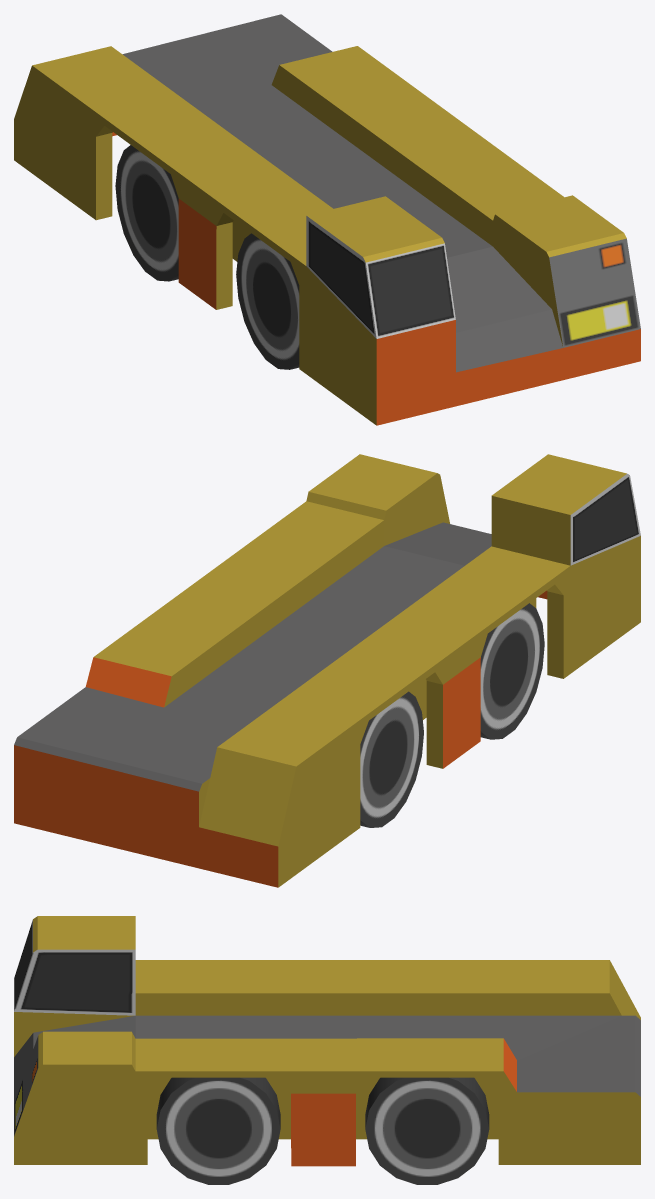
Rendered from airp truck.FBX.
3 views of the same model, one above another, from view 1: azimuth 30°, elevation 25°; view 2: azimuth 150°, elevation 25°; view 3: azimuth 270°, elevation 25° (orthographic). The views are drawn at different scales.
Parts seen in each view (by area): view 1: truck, wheel_07, wheel_08; view 2: truck, wheel_07, wheel_08; view 3: truck, wheel_10, wheel_09.
Part boxes in pixels (x1,y1,x2,y2): truck: (14,14,640,425); wheel_07: (236,233,299,369); wheel_08: (115,145,178,281); truck: (14,454,640,887); wheel_07: (480,603,544,739); wheel_08: (360,691,423,827); truck: (14,916,640,1166); wheel_10: (156,1077,280,1184); wheel_09: (365,1077,489,1184).
Bounding box in the file's own units: 3.7 × 8.8 × 2.51.
1 material, 1 textured.
